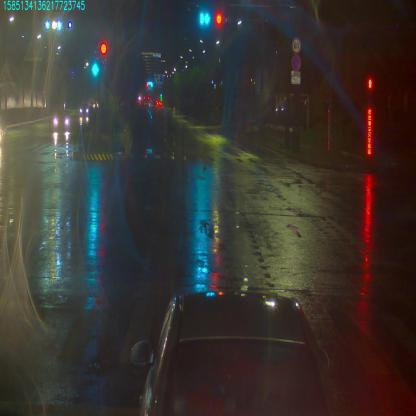traffic-light: (198, 9, 210, 27), (215, 9, 222, 26)
